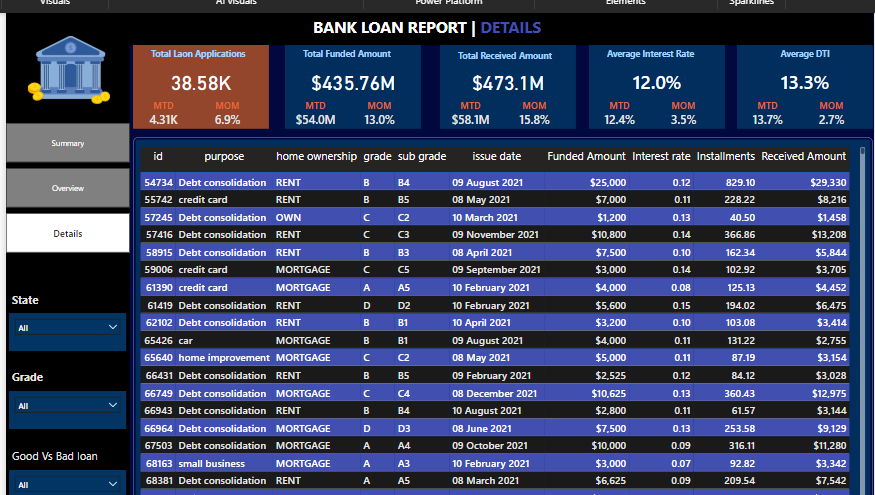

The page's visual inventory and layout, read from the dashboard file:
{"tool":"powerbi","page":{"name":"Details","canvas":[1480,850],"ordinal":2},"visuals":[{"type":"textbox","box":[0.2,0,1479.8,54.6],"z":0},{"type":"textbox","box":[0,54.6,211,795.4],"z":1000},{"type":"textbox","box":[518.9,0,443.8,54.6],"z":2000},{"type":"group","id":"g1","title":"Group 1","box":[216.8,54.6,232.1,143.4],"z":3000},{"type":"shape","box":[216.8,54.6,232.1,143.4],"z":3000,"group":"g1"},{"type":"shape","box":[476.2,54.6,232.1,143.4],"z":3000,"group":"g2"},{"type":"shape","box":[740.8,54.6,232.1,143.4],"z":3000,"group":"g3"},{"type":"shape","box":[995.1,54.6,232.1,143.4],"z":3000,"group":"g4"},{"type":"shape","box":[1247.7,54.6,232.1,143.4],"z":3000,"group":"g5"},{"type":"group","id":"g2","title":"Group 1","box":[476.2,54.6,232.1,143.4],"z":4000},{"type":"card","fields":{"Values":["All Measures.Total Loan Applications"]},"box":[216.8,87,232.1,59.7],"z":4000,"group":"g1"},{"type":"card","fields":{"Values":["All Measures.Toatl Funded Amount"]},"box":[476.2,87,232.1,59.7],"z":4000,"group":"g2"},{"type":"card","fields":{"Values":["All Measures.Total Recived Amount"]},"box":[740.8,87,232.1,59.7],"z":4000,"group":"g3"},{"type":"card","fields":{"Values":["All Measures.Average Interest Rate"]},"box":[995.1,87,232.1,59.7],"z":4000,"group":"g4"},{"type":"card","fields":{"Values":["All Measures.Average DTI Rate"]},"box":[1247.7,87,232.1,59.7],"z":4000,"group":"g5"},{"type":"textbox","box":[242.4,54.6,180.9,34.1],"z":5000,"group":"g1"},{"type":"textbox","box":[501.8,54.6,180.9,34.1],"z":5000,"group":"g2"},{"type":"group","id":"g3","title":"Group 1","box":[740.8,54.6,232.1,143.4],"z":5000},{"type":"textbox","box":[766.4,54.6,180.9,34.1],"z":5000,"group":"g3"},{"type":"textbox","box":[1020.7,54.6,180.9,34.1],"z":5000,"group":"g4"},{"type":"textbox","box":[1273.3,54.6,180.9,34.1],"z":5000,"group":"g5"},{"type":"group","id":"g4","title":"Group 1","box":[995.1,54.6,232.1,143.4],"z":6000},{"type":"card","title":"MTD","fields":{"Values":["All Measures.MTD Loan Applications"]},"box":[223.6,146.8,90.5,51.2],"z":6000,"group":"g1"},{"type":"card","title":"MTD","fields":{"Values":["All Measures.MTD Funded Amount"]},"box":[483,146.8,90.5,51.2],"z":6000,"group":"g2"},{"type":"card","title":"MTD","fields":{"Values":["All Measures.MTD Received Amount"]},"box":[747.6,146.8,90.5,51.2],"z":6000,"group":"g3"},{"type":"card","title":"MTD","fields":{"Values":["All Measures.MTD Interest Rate"]},"box":[1001.9,146.8,90.5,51.2],"z":6000,"group":"g4"},{"type":"card","title":"MTD","fields":{"Values":["All Measures.MTD DTI Rate"]},"box":[1254.5,146.8,90.5,51.2],"z":6000,"group":"g5"},{"type":"group","id":"g5","title":"Group 1","box":[1247.7,54.6,232.1,143.4],"z":7000},{"type":"card","title":"MOM","fields":{"Values":["All Measures.MOM Loan Applications"]},"box":[332.9,146.8,90.5,51.2],"z":7000,"group":"g1"},{"type":"card","title":"MOM","fields":{"Values":["All Measures.MOM Funded Amount"]},"box":[592.3,146.8,90.5,51.2],"z":7000,"group":"g2"},{"type":"card","title":"MOM","fields":{"Values":["All Measures.MOM Received Amount"]},"box":[856.9,146.8,90.5,51.2],"z":7000,"group":"g3"},{"type":"card","title":"MOM","fields":{"Values":["All Measures.MOM Averate Interest Rate"]},"box":[1111.2,146.8,90.5,51.2],"z":7000,"group":"g4"},{"type":"card","title":"MOM","fields":{"Values":["All Measures.MOM DTI Rate"]},"box":[1363.8,146.8,90.5,51.2],"z":7000,"group":"g5"},{"type":"slicer","fields":{"Values":["bankloandb loan_data.address_state"]},"box":[5.1,512,199.7,64.9],"z":8000},{"type":"textbox","box":[5.1,471.1,107.5,41],"z":9000},{"type":"slicer","fields":{"Values":["bankloandb loan_data.grade"]},"box":[5.1,645.2,199.7,64.9],"z":10000},{"type":"textbox","box":[5.1,602.5,107.5,42.7],"z":11000},{"type":"slicer","fields":{"Values":["bankloandb loan_data.Goad Loan Vs Bad Loan"]},"box":[5.1,780,199.7,64.9],"z":12000},{"type":"textbox","box":[5.1,737.3,199.7,42.7],"z":13000},{"type":"shape","box":[216.8,211.6,1263.1,621.3],"z":14000},{"type":"tableEx","fields":{"Values":["bankloandb loan_data.id","bankloandb loan_data.purpose","bankloandb loan_data.home_ownership","bankloandb loan_data.grade","bankloandb loan_data.sub_grade","bankloandb loan_data.issue_date","All Measures.Total Funded Amount","Sum(bankloandb loan_data.int_rate)","Sum(bankloandb loan_data.installment)","All Measures.Total Recived Amount"]},"box":[223.6,223.6,1247.7,609.3],"z":15000},{"type":"image","box":[32,22,150,150],"z":16000},{"type":"pageNavigator","box":[0,187.8,211.6,223.6],"z":17000}]}

Visuals, with their boxes on the page's 1480x850 design canvas (x1, y1, x2, y2). These are canvas units, not pixel positions in the 875x495 screenshot, which may show the page scaled, cropped or inside an application window:
textbox: 0, 0, 1480, 55
textbox: 0, 55, 211, 850
textbox: 519, 0, 963, 55
"Group 1" group: 217, 55, 449, 198
shape: 217, 55, 449, 198
shape: 476, 55, 708, 198
shape: 741, 55, 973, 198
shape: 995, 55, 1227, 198
shape: 1248, 55, 1480, 198
"Group 1" group: 476, 55, 708, 198
card - All Measures.Total Loan Applications: 217, 87, 449, 147
card - All Measures.Toatl Funded Amount: 476, 87, 708, 147
card - All Measures.Total Recived Amount: 741, 87, 973, 147
card - All Measures.Average Interest Rate: 995, 87, 1227, 147
card - All Measures.Average DTI Rate: 1248, 87, 1480, 147
textbox: 242, 55, 423, 89
textbox: 502, 55, 683, 89
"Group 1" group: 741, 55, 973, 198
textbox: 766, 55, 947, 89
textbox: 1021, 55, 1202, 89
textbox: 1273, 55, 1454, 89
"Group 1" group: 995, 55, 1227, 198
"MTD" card: 224, 147, 314, 198
"MTD" card: 483, 147, 574, 198
"MTD" card: 748, 147, 838, 198
"MTD" card: 1002, 147, 1092, 198
"MTD" card: 1254, 147, 1345, 198
"Group 1" group: 1248, 55, 1480, 198
"MOM" card: 333, 147, 423, 198
"MOM" card: 592, 147, 683, 198
"MOM" card: 857, 147, 947, 198
"MOM" card: 1111, 147, 1202, 198
"MOM" card: 1364, 147, 1454, 198
slicer - bankloandb loan_data.address_state: 5, 512, 205, 577
textbox: 5, 471, 113, 512
slicer - bankloandb loan_data.grade: 5, 645, 205, 710
textbox: 5, 602, 113, 645
slicer - bankloandb loan_data.Goad Loan Vs Bad Loan: 5, 780, 205, 845
textbox: 5, 737, 205, 780
shape: 217, 212, 1480, 833
tableEx - bankloandb loan_data.id x bankloandb loan_data.purpose: 224, 224, 1471, 833
image: 32, 22, 182, 172
pageNavigator: 0, 188, 212, 411
